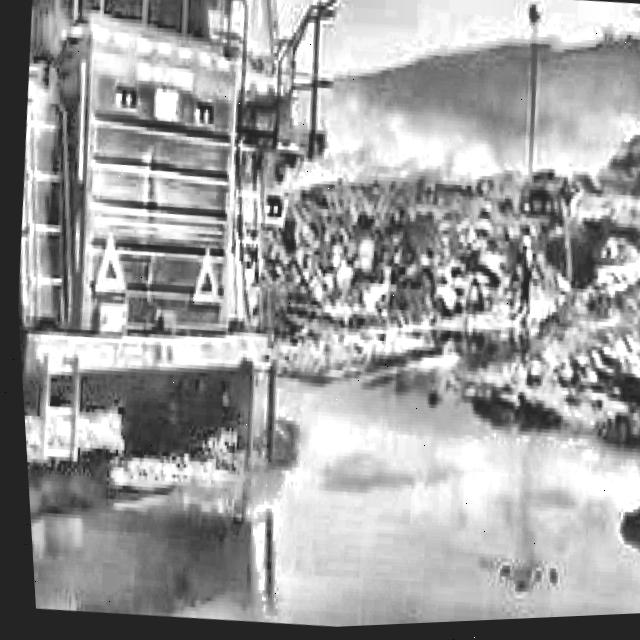dump_truck: (0, 0, 326, 512)
